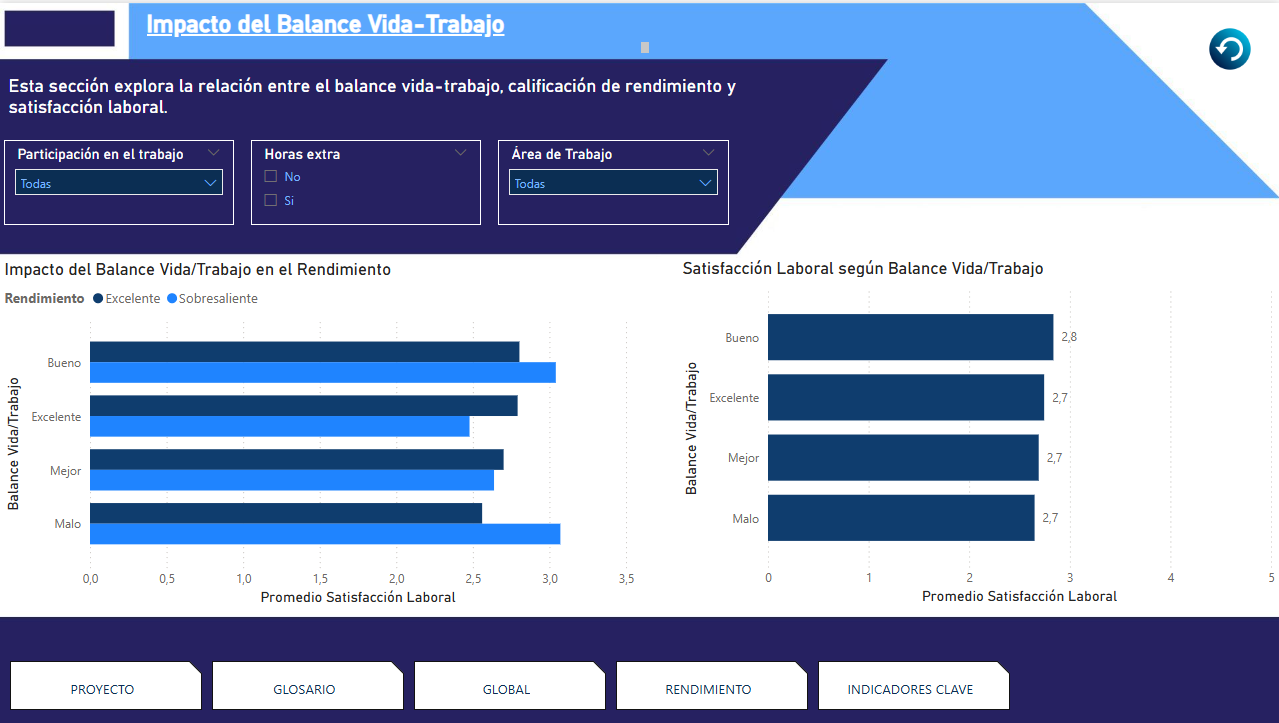

What the dashboard file says about the page in this screenshot:
{"tool":"powerbi","page":{"name":"BALANCE","canvas":[1280,720],"ordinal":3},"visuals":[{"type":"barChart","title":"Satisfacción Laboral según Balance Vida/Trabajo","fields":{"Y":["Tabla Medidas.Promedio Satisfacción Laboral"],"Category":["ID_Balance Vida - Trabajo.Balance Vida/Trabajo"]},"box":[677.8,255.4,602.7,351],"z":0},{"type":"clusteredBarChart","title":"Impacto del Balance Vida/Trabajo en el Rendimiento","fields":{"Y":["Tabla Medidas.Promedio Satisfacción Laboral"],"Category":["ID_Balance Vida - Trabajo.Balance Vida/Trabajo"],"Series":["ID_Calificacion de rendimiento.Calificación de rendimiento"]},"box":[0,255.8,639.4,351.1],"z":1000},{"type":"slicer","fields":{"Values":["Horas extra.Horas extra"]},"box":[250.9,137.3,230.4,84.5],"z":2000},{"type":"slicer","fields":{"Values":["ID_Participación_Trabajo.Participación en el trabajo"]},"box":[3.6,137.3,230.4,84.5],"z":3000},{"type":"textbox","title":"Impacto del Balance Vida-Trabajo","box":[141.8,7.2,511.7,47.6],"z":4000},{"type":"textbox","title":"Esta sección explora la relación entre el balance vida-trabajo, calificación de rendimiento y satisfacción laboral.","box":[3.6,72.4,787.8,51.9],"z":5000},{"type":"slicer","fields":{"Values":["Área de Trabajo.Área de Trabajo"]},"box":[498.3,137.3,230.4,84.5],"z":6000},{"type":"pageNavigator","box":[9.9,658.1,1000.1,49.4],"z":7000},{"type":"image","box":[1199.4,18.9,61.9,53.9],"z":8000}]}

Visuals, with their boxes in screenshot pixels (x1, y1, x2, y2), scaled from the page's 1280x720 canvas onto the 1279x723 screenshot:
"Satisfacción Laboral según Balance Vida/Trabajo" barChart: bbox(677, 256, 1278, 609)
"Impacto del Balance Vida/Trabajo en el Rendimiento" clusteredBarChart: bbox(0, 257, 639, 609)
slicer - Horas extra.Horas extra: bbox(251, 138, 481, 223)
slicer - ID_Participación_Trabajo.Participación en el trabajo: bbox(4, 138, 234, 223)
"Impacto del Balance Vida-Trabajo" textbox: bbox(142, 7, 653, 55)
"Esta sección explora la relación entre el balance vida-trabajo, calificación de rendimiento y satisfacción laboral." textbox: bbox(4, 73, 791, 125)
slicer - Área de Trabajo.Área de Trabajo: bbox(498, 138, 728, 223)
pageNavigator: bbox(10, 661, 1009, 710)
image: bbox(1198, 19, 1260, 73)
